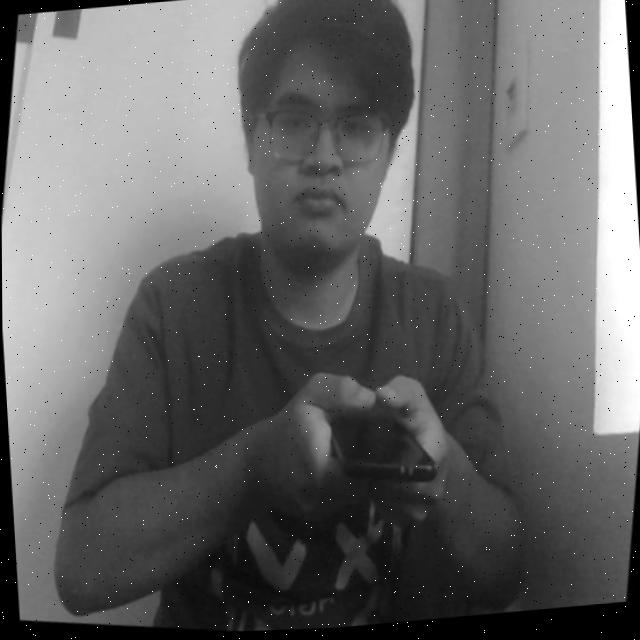phone: (290, 357, 458, 525)
